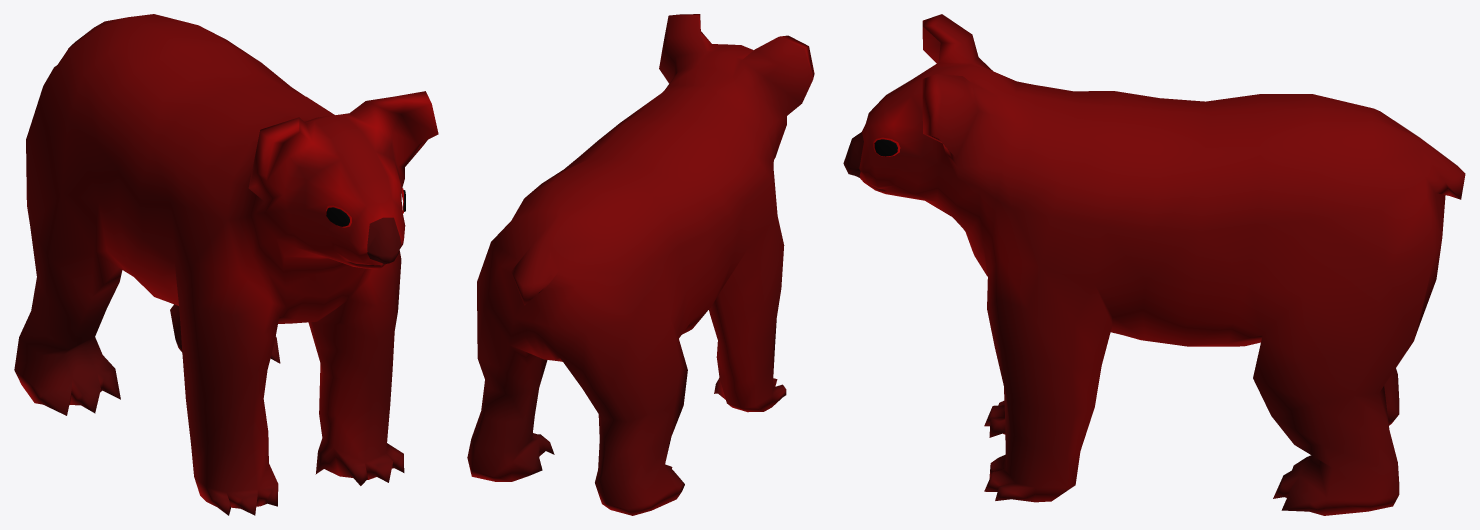
File: Animals_KoalaBear.fbx
3 views of the same model, side by side, from view 1: azimuth 30°, elevation 25°; view 2: azimuth 150°, elevation 25°; view 3: azimuth 270°, elevation 25° (orthographic). The views are drawn at different scales.
Parts seen in each view (by area): view 1: base; view 2: base; view 3: base.
Boxes of the visible parts, x1,y1,x2,y2 form: base: [14, 14, 438, 515]; base: [467, 14, 814, 515]; base: [843, 14, 1465, 515].
Size of the model in its own units: 26.64 by 44.06 by 60.7.
